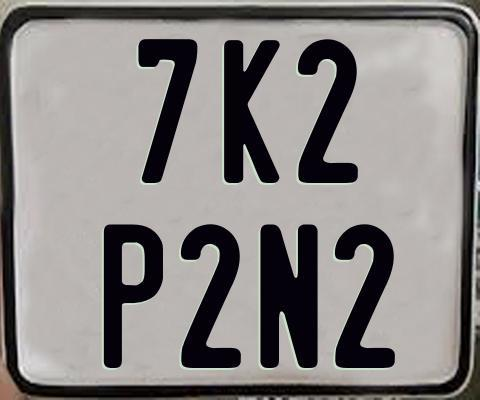2: (333, 223, 395, 373), (295, 37, 357, 185), (181, 221, 243, 365)
7: (135, 36, 198, 185)
K: (224, 39, 282, 183)
N: (257, 222, 315, 371)
P: (104, 222, 165, 366)
